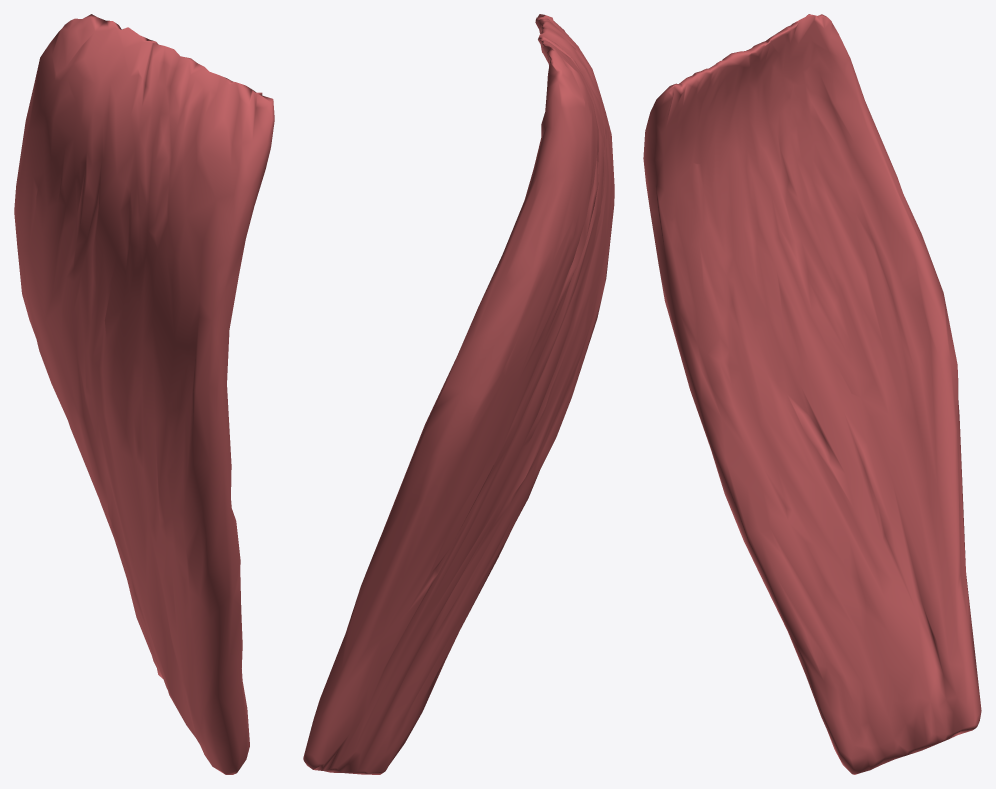
3 renders of one model, left to right at view 1: azimuth 30°, elevation 25°; view 2: azimuth 150°, elevation 25°; view 3: azimuth 270°, elevation 25°, orthographic. The views are drawn at different scales.
Visible parts, largest first — view 1: 右侧甲杓肌外侧部; view 2: 右侧甲杓肌外侧部; view 3: 右侧甲杓肌外侧部.
Part boxes in pixels (x1,y1,x2,y2): 右侧甲杓肌外侧部: (14,14,274,774); 右侧甲杓肌外侧部: (303,14,614,774); 右侧甲杓肌外侧部: (643,14,981,774).
Size of the model in its own units: 0.0088 by 0.0306 by 0.0136.
